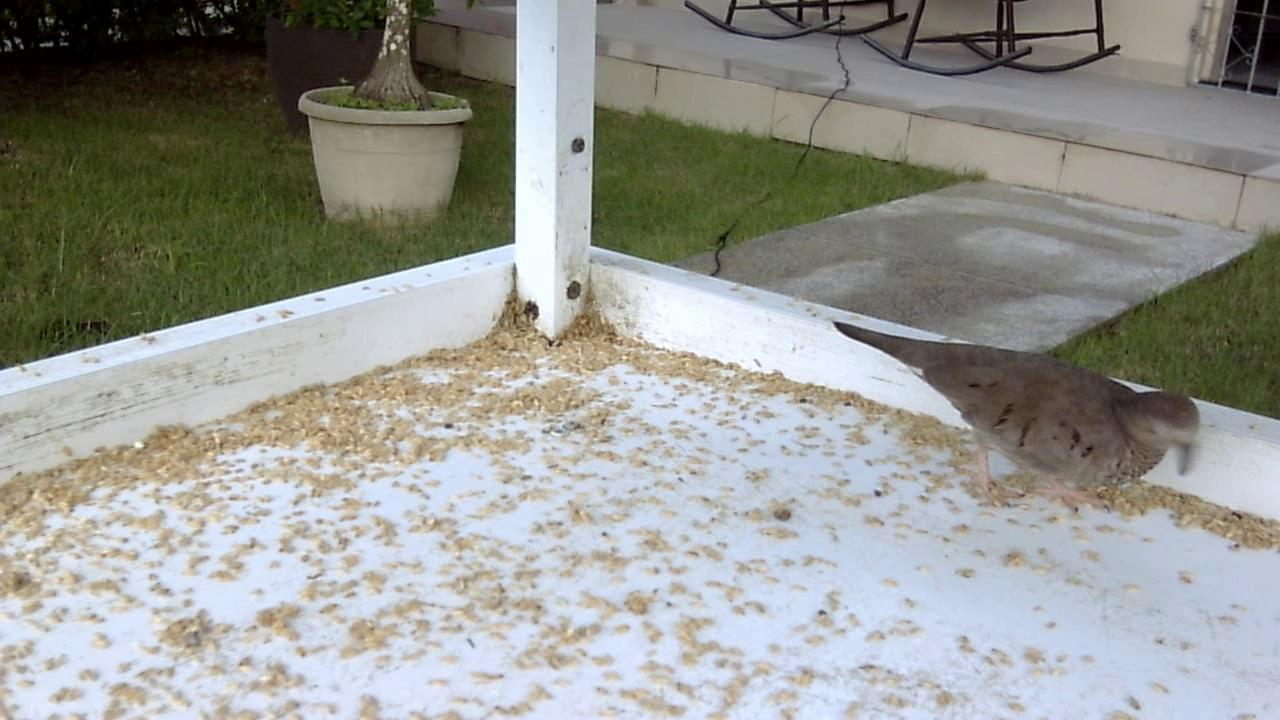rolinha: (816, 296, 1209, 519)
